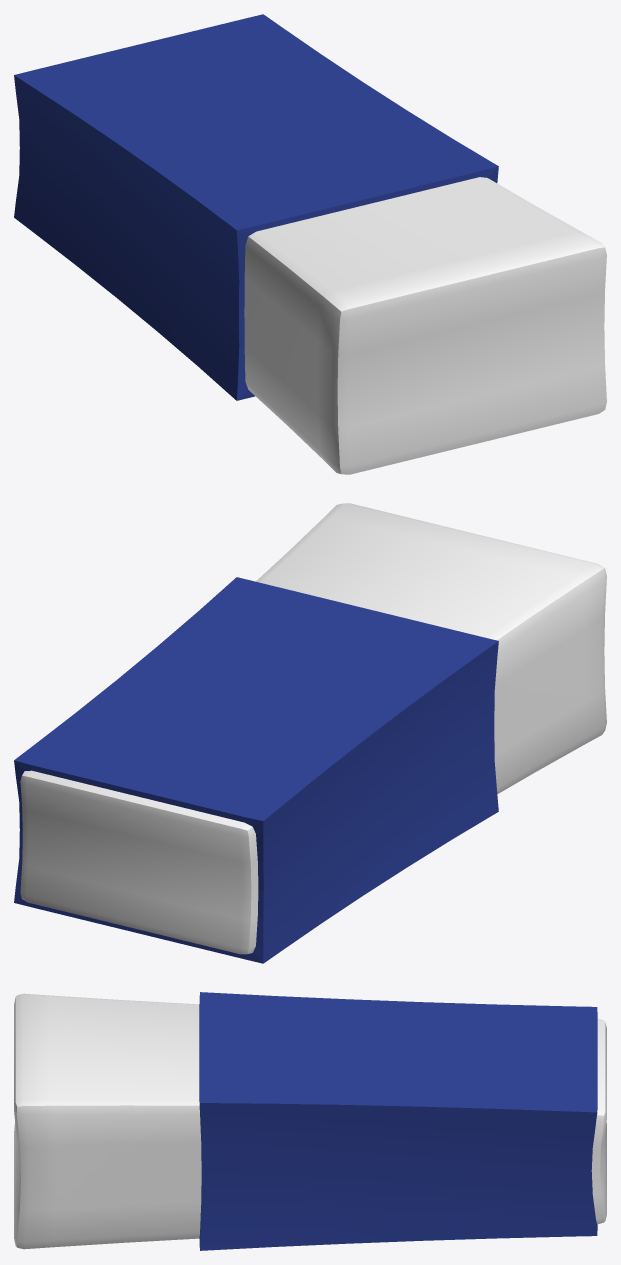
Rendered from Rubber.FBX.
The picture shows the model from 3 angles, top to bottom: view 1: azimuth 30°, elevation 25°; view 2: azimuth 150°, elevation 25°; view 3: azimuth 270°, elevation 25°; orthographic projection. The views are drawn at different scales.
Parts seen in each view (by area): view 1: Box049; view 2: Box049; view 3: Box049.
Boxes of the visible parts, left/top/right/bottom form: Box049: left=14, top=14, right=606, bottom=474; Box049: left=14, top=503, right=606, bottom=963; Box049: left=14, top=992, right=606, bottom=1250.
Bounding box in the file's own units: 102 × 61.34 × 222.
